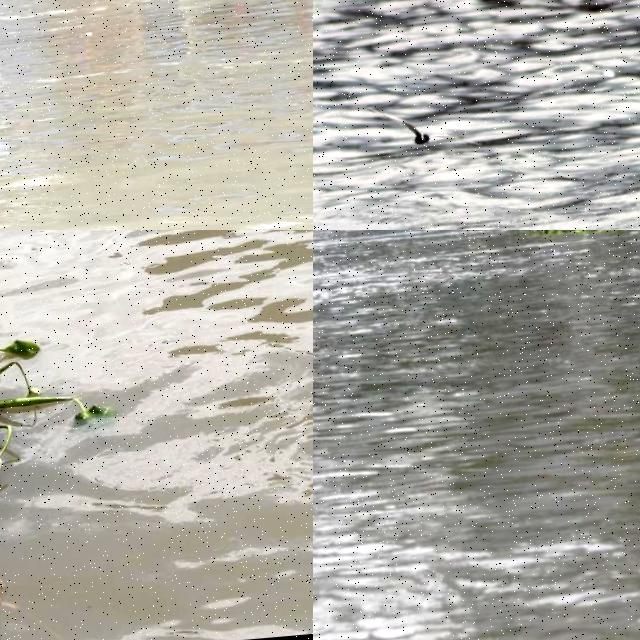water-hyacinth: (1, 303, 179, 548)
